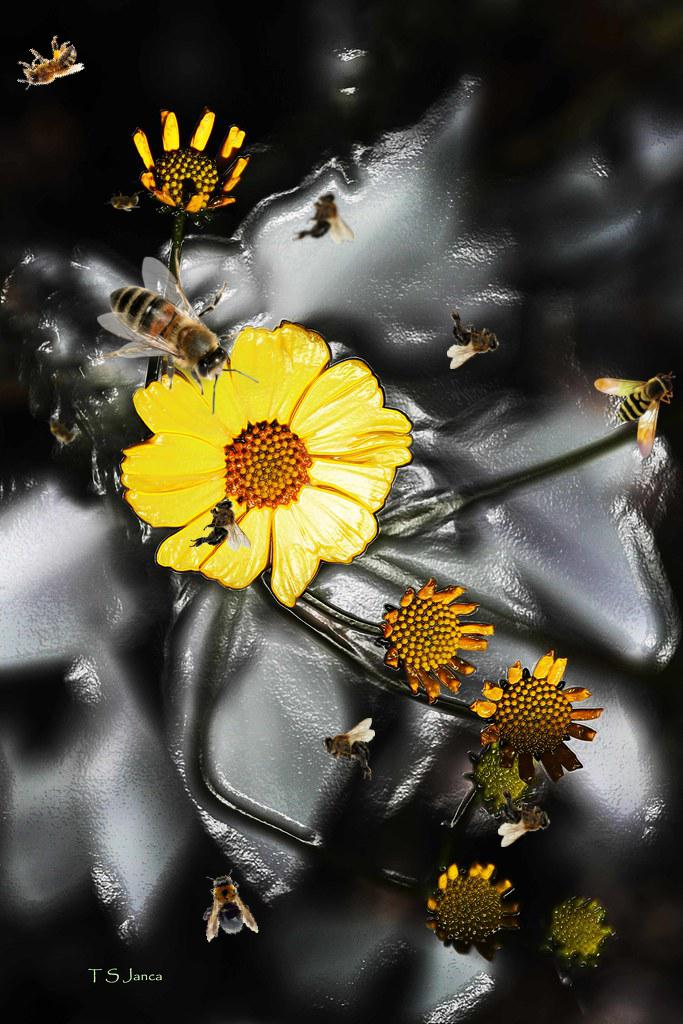Bee: (97, 248, 259, 415), (594, 371, 676, 459), (7, 28, 87, 103), (193, 866, 259, 944), (322, 718, 375, 780), (498, 785, 551, 847), (189, 498, 251, 551), (447, 307, 500, 369), (292, 191, 354, 244), (39, 409, 85, 453), (104, 190, 144, 212)
